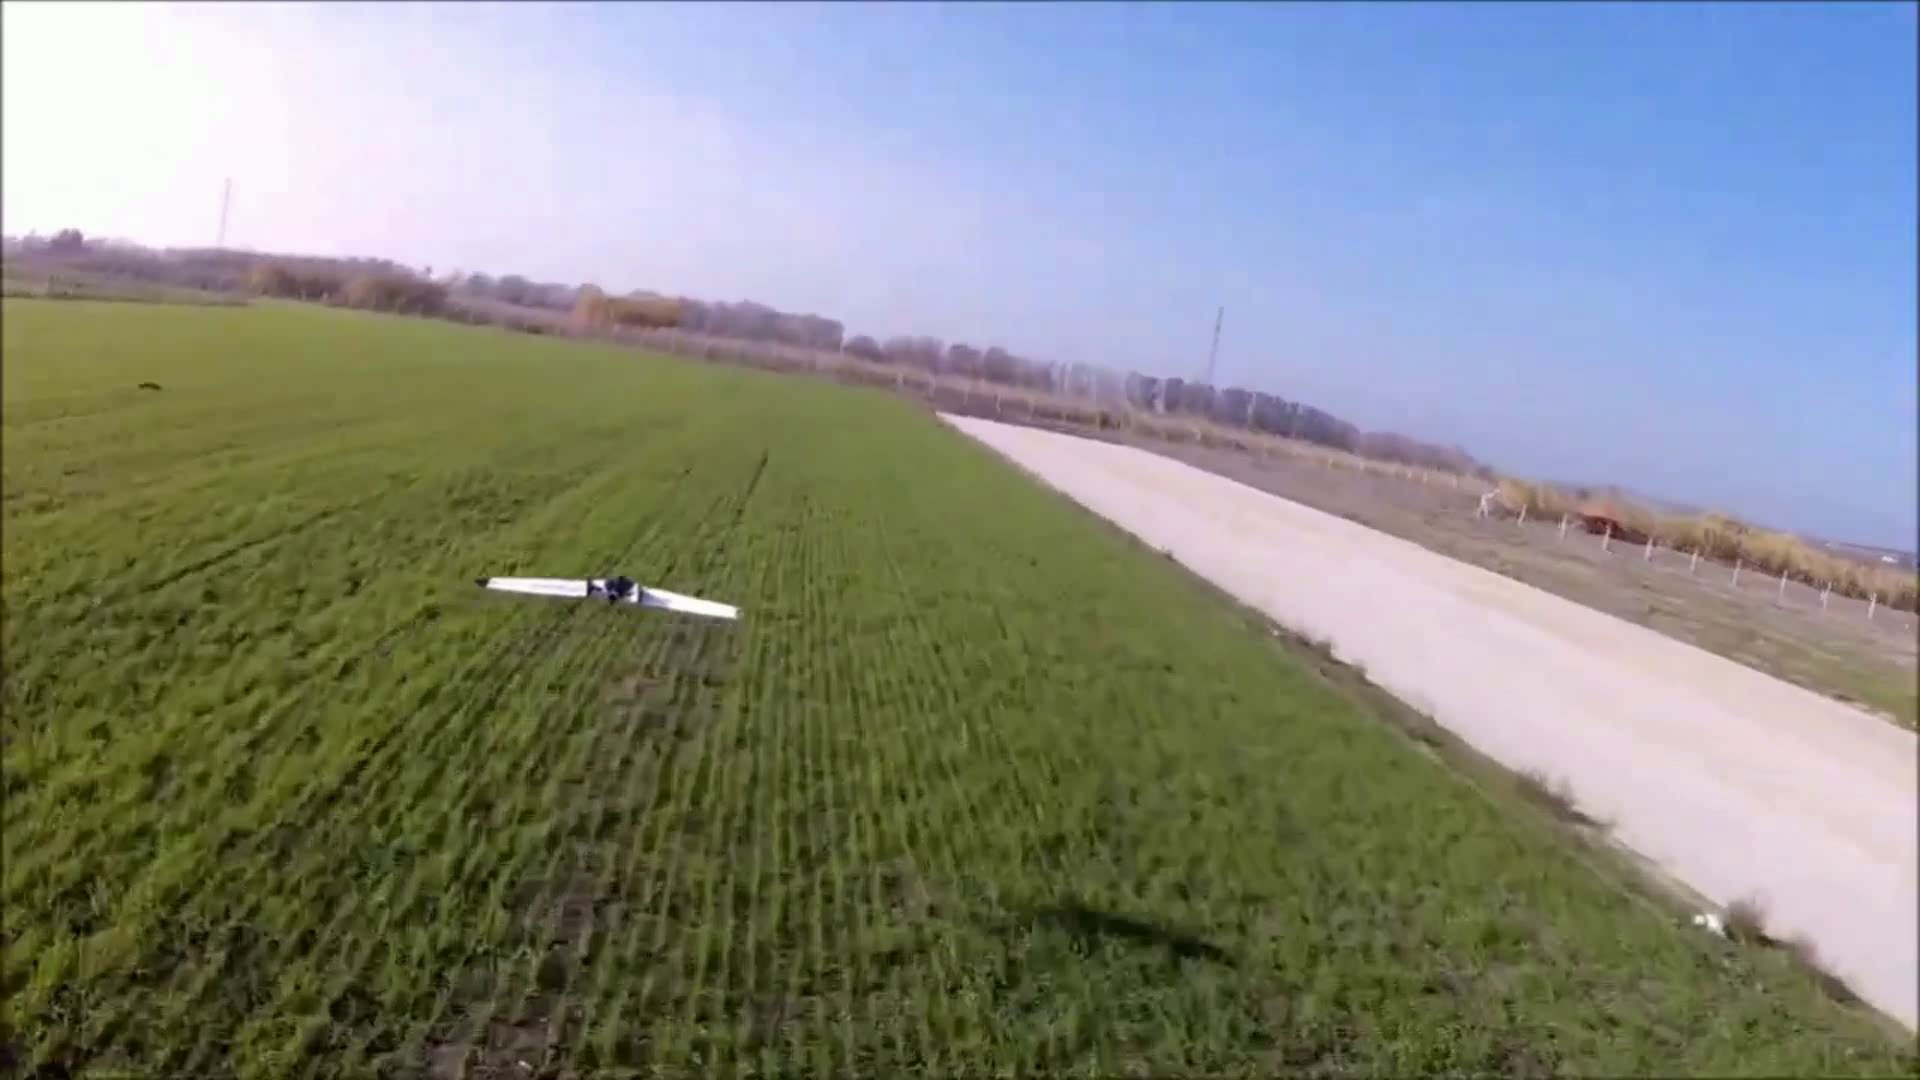airplane: (483, 572, 740, 622)
